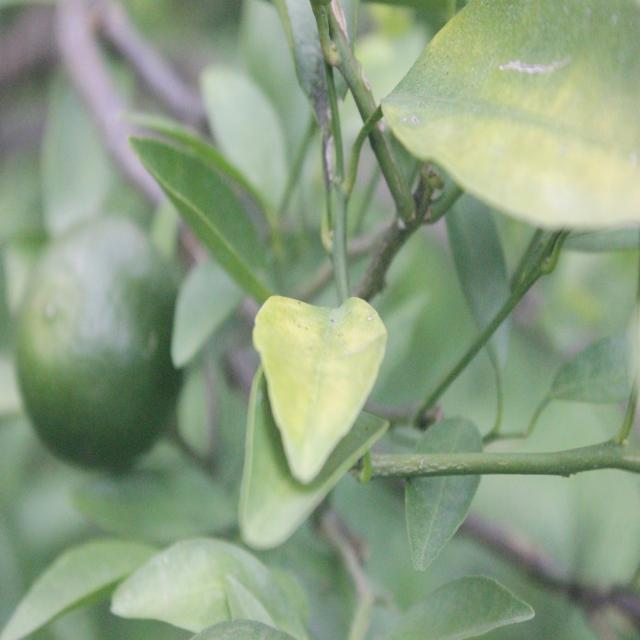blackspot: (288, 306, 353, 374)
